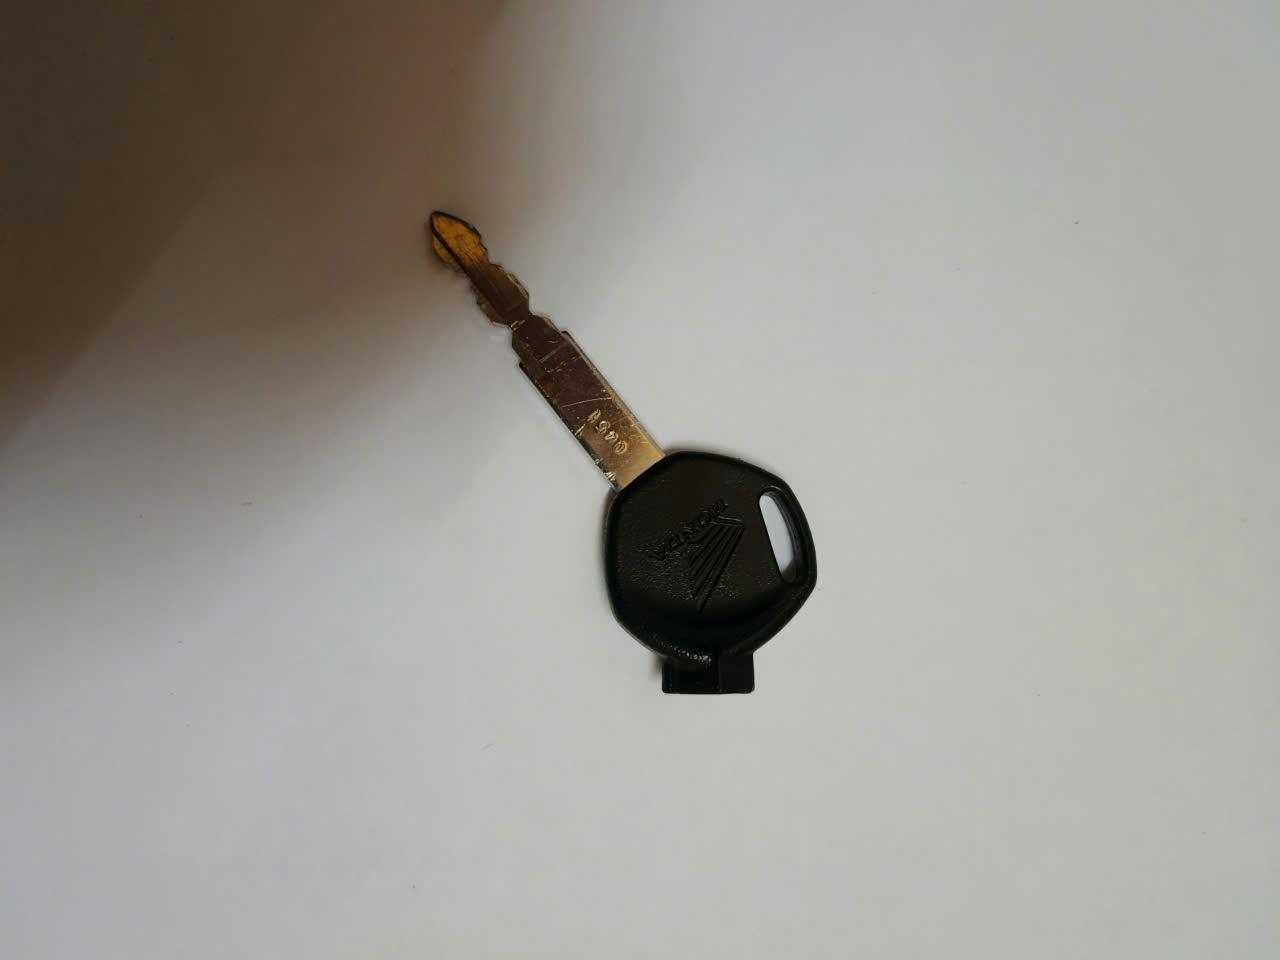Vo co: (420, 211, 820, 695)
